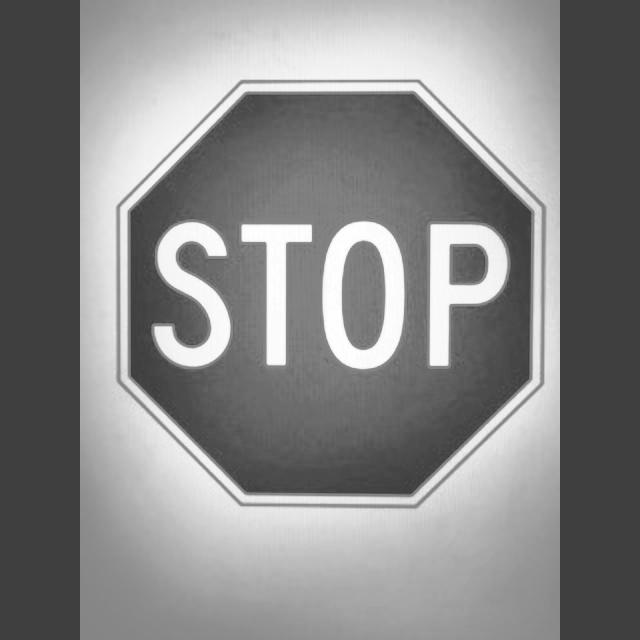STOP: (117, 82, 545, 506)
